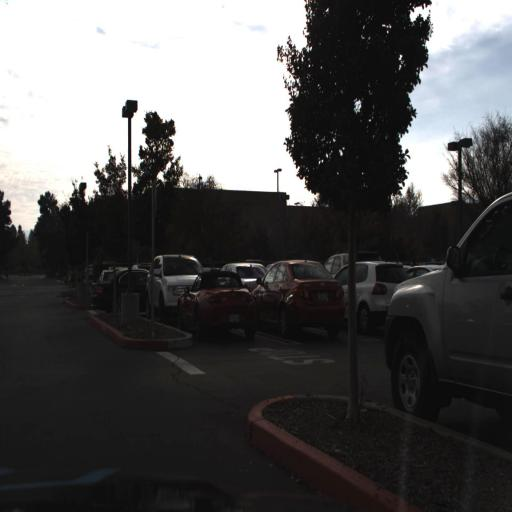car: (384, 182, 512, 442), (250, 253, 346, 338), (331, 251, 408, 338), (174, 266, 263, 340), (83, 262, 154, 314), (143, 250, 198, 317)
